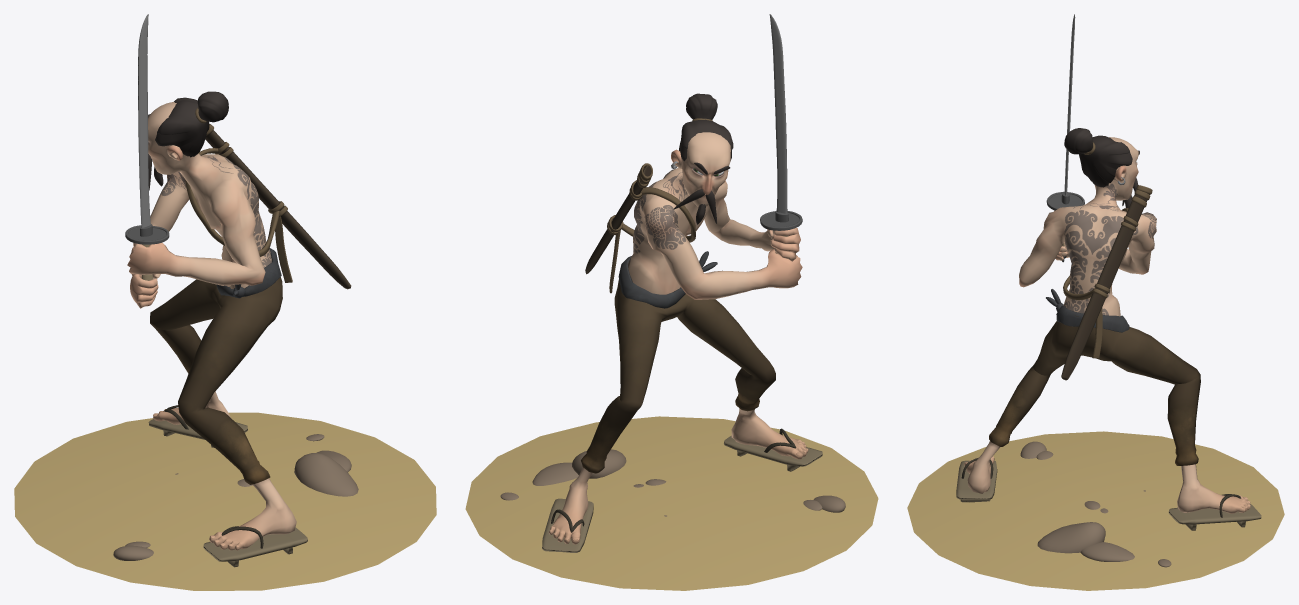
Rendered from chinese_pirate.glb.
The picture shows the model from 3 angles, left to right: view 1: azimuth 30°, elevation 25°; view 2: azimuth 150°, elevation 25°; view 3: azimuth 270°, elevation 25°; orthographic projection. The views are drawn at different scales.
Parts seen in each view (by area): view 1: Chinese_Pirate_Posed; view 2: Chinese_Pirate_Posed; view 3: Chinese_Pirate_Posed.
Boxes of the visible parts, box(x1,y1,x2,y2) form: Chinese_Pirate_Posed: box(14, 14, 436, 590); Chinese_Pirate_Posed: box(465, 14, 878, 590); Chinese_Pirate_Posed: box(907, 14, 1284, 590).
Size of the model in its own units: 0.0181 by 0.0248 by 0.0181.
7 materials, 5 textured.
